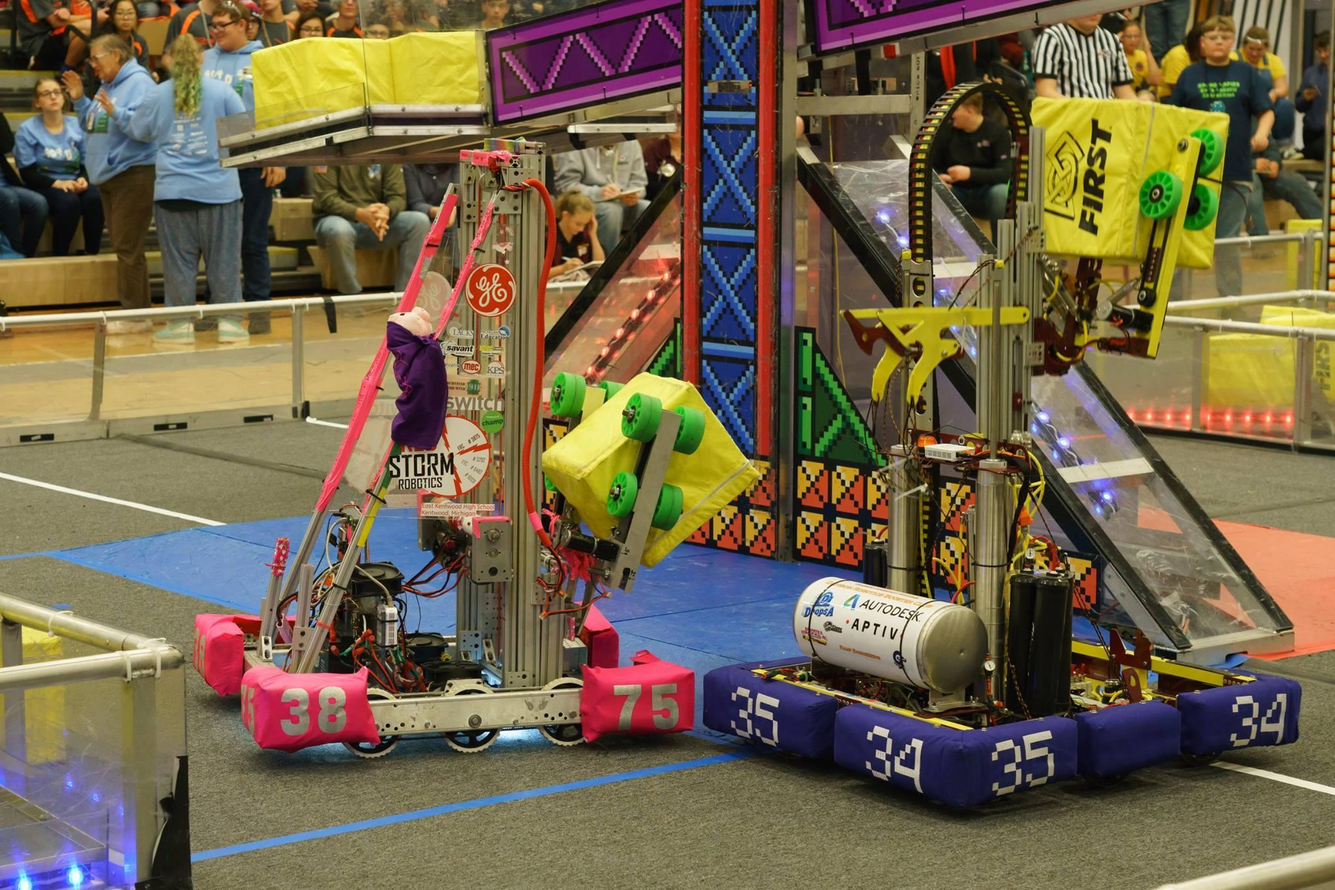robot: (700, 65, 1309, 824), (168, 126, 708, 762)
